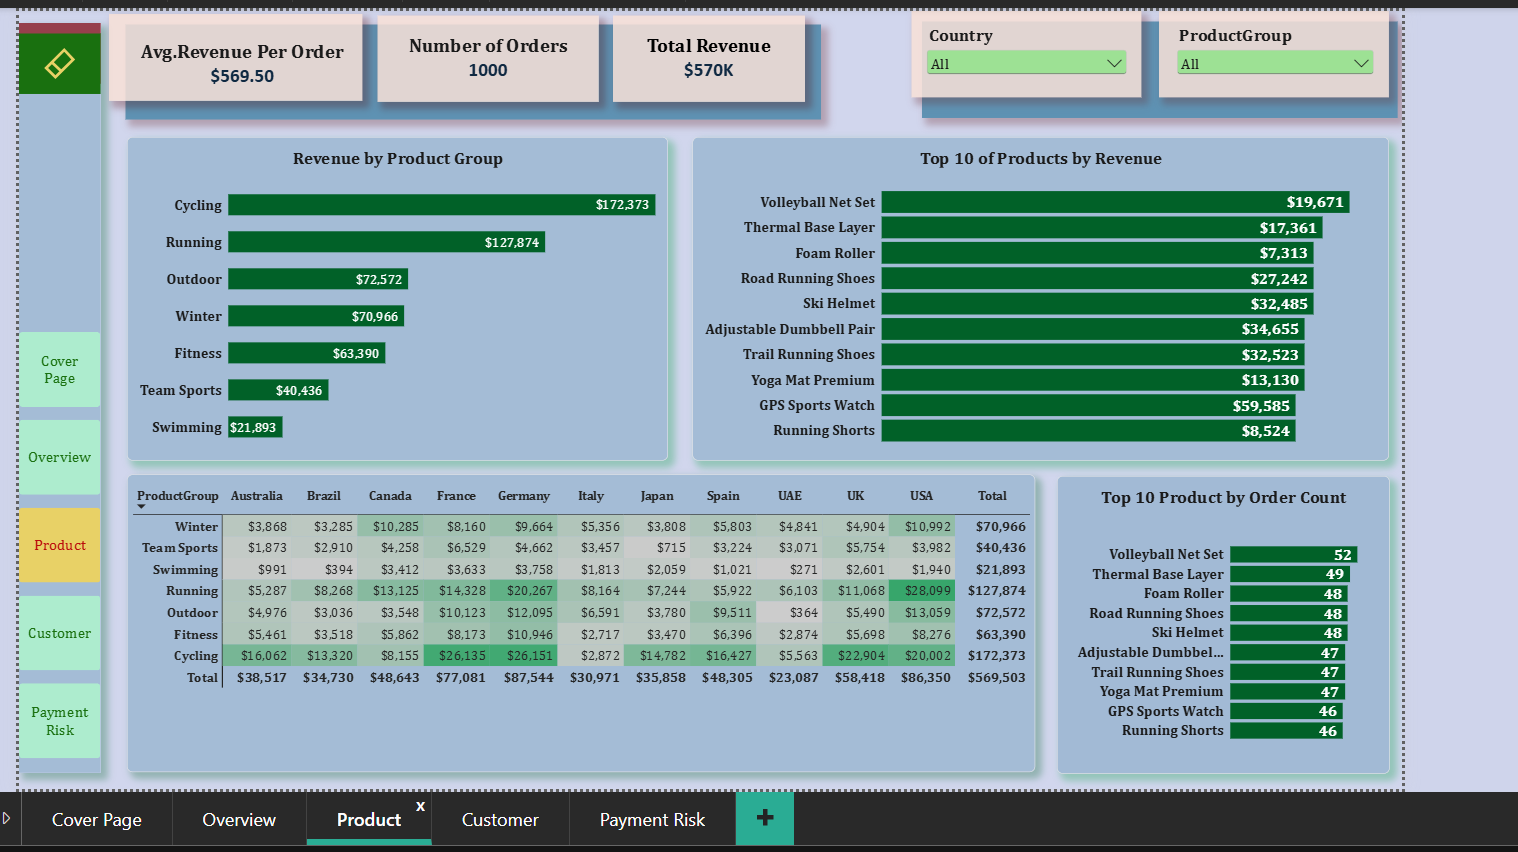

This screenshot's page, from the dashboard's own definition file:
{"tool":"powerbi","page":{"name":"Product","canvas":[1920,1080],"ordinal":2},"visuals":[{"type":"shape","box":[0,16.5,113.7,1041.4],"z":0,"group":"g2"},{"type":"actionButton","box":[0,16.5,113,84],"z":0},{"type":"shape","box":[149,19.1,966.3,132.3],"z":0,"group":"g3"},{"type":"clusteredBarChart","title":"Revenue by Product Group","fields":{"Category":["Product.ProductGroup"],"Y":["Sum(Orders.Revenue)"]},"box":[149,174.2,751.3,449.1],"z":1000},{"type":"clusteredBarChart","title":"Top 10 of Products by Revenue","fields":{"Category":["Product.ProductName"],"Y":["CountNonNull(Orders.Revenue)"]},"box":[935.9,174.2,967.4,449.1],"z":2000},{"type":"pageNavigator","box":[0,445.6,113.3,596],"z":2000,"group":"g2"},{"type":"clusteredBarChart","title":"Top 10 Product by Order Count","fields":{"Category":["Product.ProductName"],"Y":["Calculation.Number of Orders"]},"box":[1441.7,646.3,461.7,413.4],"z":3000},{"type":"cardVisual","fields":{"Data":["Calculation.Number of Orders"]},"box":[498,6.6,307.1,120],"z":4000,"group":"g3"},{"type":"pivotTable","title":"Product Group by Countries","fields":{"Columns":["Geo.Country","Geo.City","Geo.Region"],"Rows":["RevenueByProductGroup.ProductGroup"],"Values":["Sum(Orders.Revenue)"]},"box":[149,644.2,1261.2,413.4],"z":4000},{"type":"group","id":"g1","title":"Group 1","box":[1240.2,0,675.7,146.9],"z":5000},{"type":"cardVisual","fields":{"Data":["Calculation.Avg.Rev.Per Order"]},"box":[125.9,4.2,352,120.5],"z":5000,"group":"g3"},{"type":"cardVisual","fields":{"Data":["Calculation.Total Revenue"]},"box":[825.2,6.6,267,120],"z":6000,"group":"g3"},{"type":"group","id":"g2","title":"Group 3","box":[0,16.5,113.7,1041.4],"z":6000},{"type":"actionButton","box":[0,31,113,84],"z":7000},{"type":"group","id":"g3","title":"Group 2","box":[125.9,4.2,990.5,146.9],"z":8000},{"type":"shape","box":[1254,13.8,660.4,134],"z":10000,"group":"g1"},{"type":"slicer","fields":{"Values":["Geo.Country"]},"box":[1240.2,0,319.5,120],"z":10500,"group":"g1"},{"type":"slicer","fields":{"Values":["Product.ProductGroup"]},"box":[1584.3,0,319,120],"z":11000,"group":"g1"}]}

Visuals, with their boxes on the page's 1920x1080 design canvas (x1, y1, x2, y2). These are canvas units, not pixel positions in the 1518x852 screenshot, which may show the page scaled, cropped or inside an application window:
shape: (0,16,114,1058)
actionButton: (0,16,113,100)
shape: (149,19,1115,151)
"Revenue by Product Group" clusteredBarChart: (149,174,900,623)
"Top 10 of Products by Revenue" clusteredBarChart: (936,174,1903,623)
pageNavigator: (0,446,113,1042)
"Top 10 Product by Order Count" clusteredBarChart: (1442,646,1903,1060)
cardVisual - Calculation.Number of Orders: (498,7,805,127)
"Product Group by Countries" pivotTable: (149,644,1410,1058)
"Group 1" group: (1240,0,1916,147)
cardVisual - Calculation.Avg.Rev.Per Order: (126,4,478,125)
cardVisual - Calculation.Total Revenue: (825,7,1092,127)
"Group 3" group: (0,16,114,1058)
actionButton: (0,31,113,115)
"Group 2" group: (126,4,1116,151)
shape: (1254,14,1914,148)
slicer - Geo.Country: (1240,0,1560,120)
slicer - Product.ProductGroup: (1584,0,1903,120)
